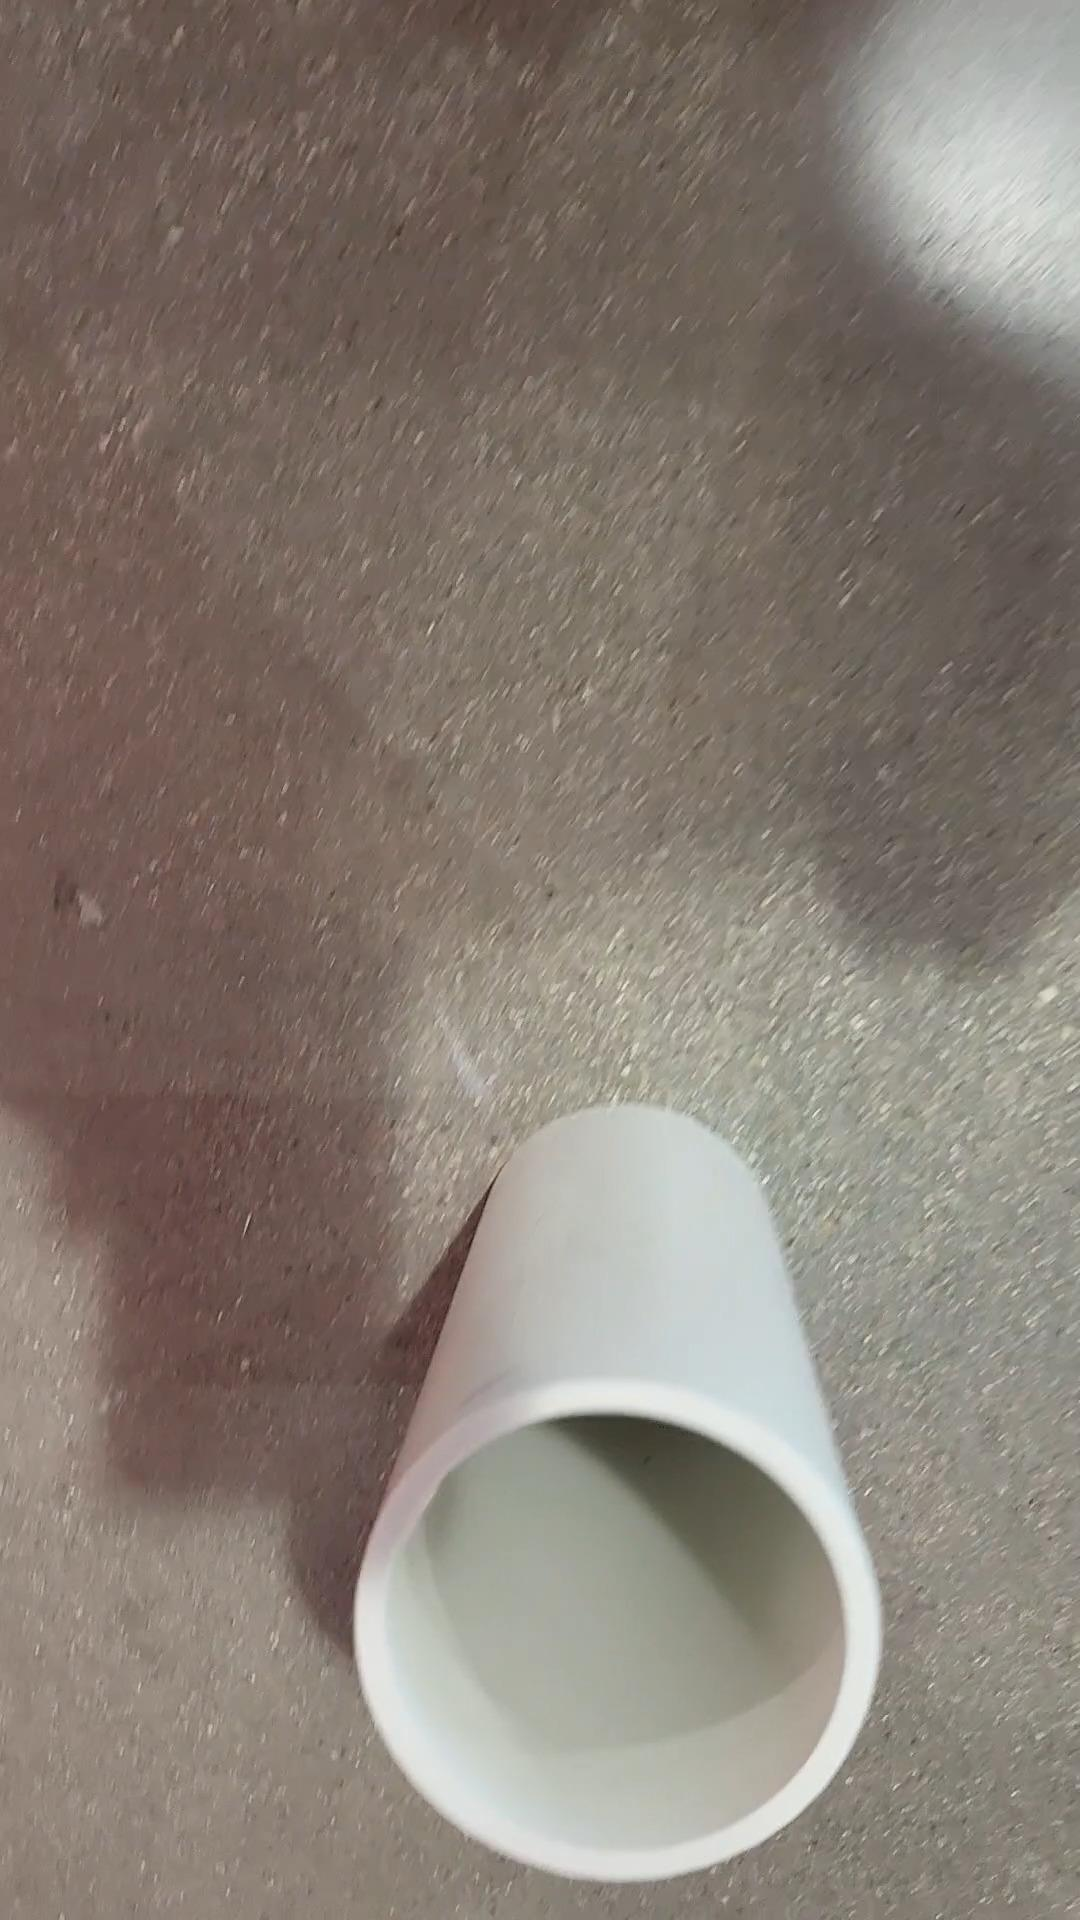coral: (347, 1095, 899, 1894)
